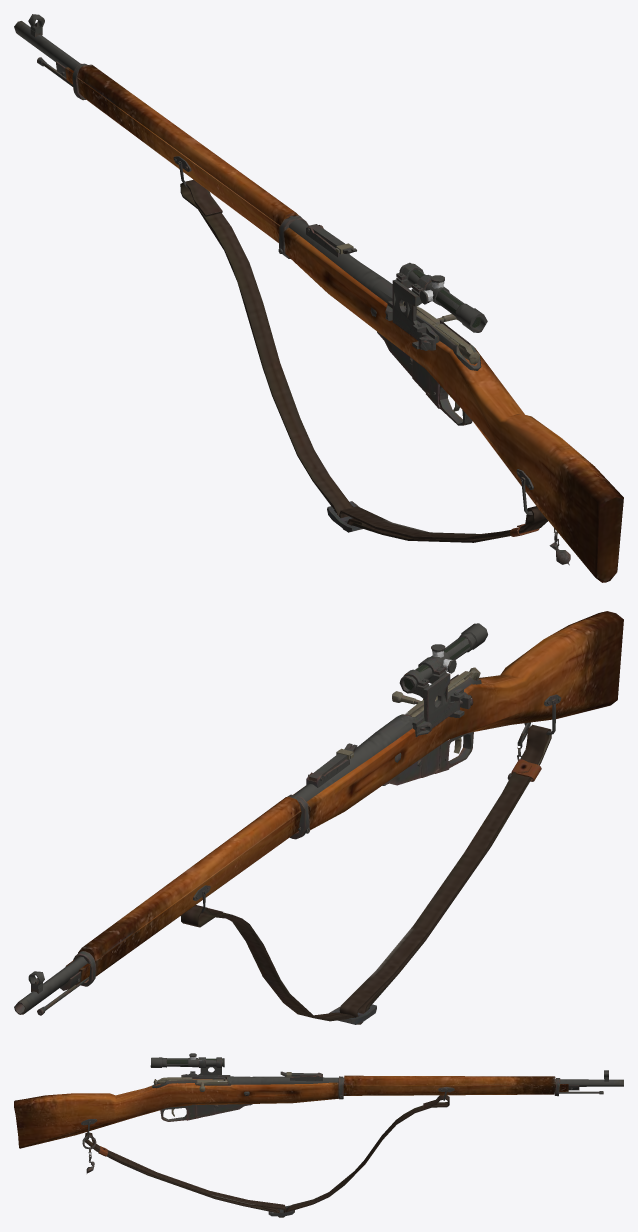
File: mosin.glb
3 renders of one model, top to bottom at view 1: azimuth 30°, elevation 25°; view 2: azimuth 150°, elevation 25°; view 3: azimuth 270°, elevation 25°, orthographic. The views are drawn at different scales.
Bounding box in the file's own units: 0.0759 × 0.3586 × 1.23.
1 material, 1 textured.
